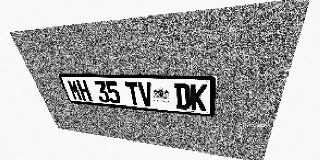3: (94, 81, 110, 103)
5: (105, 81, 121, 104)
D: (174, 83, 190, 110)
H: (76, 80, 93, 101)
K: (190, 84, 207, 111)
M: (66, 80, 83, 101)
T: (125, 82, 141, 106)
V: (137, 82, 154, 107)
